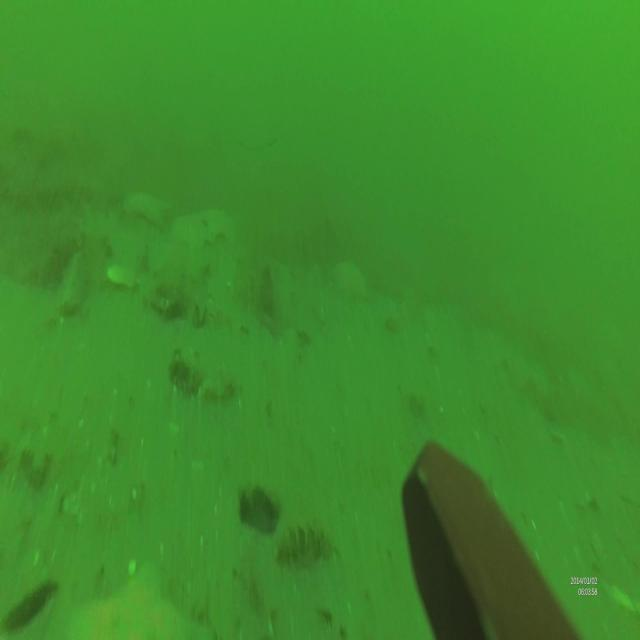starfish: (72, 554, 206, 640), (122, 185, 170, 239), (172, 215, 212, 256), (203, 203, 231, 244)
